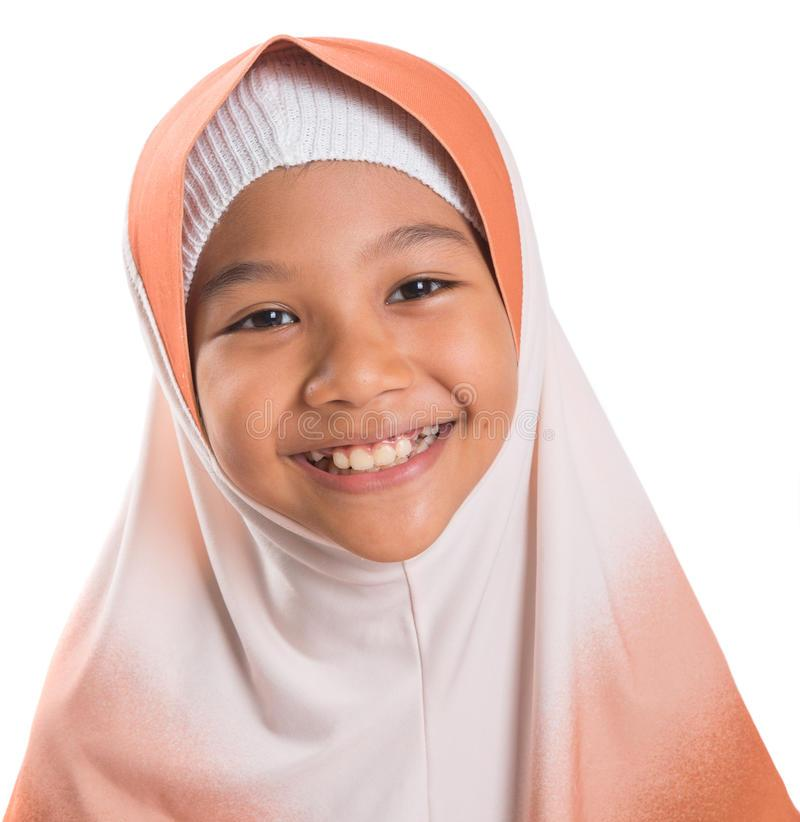No Mask: (182, 148, 555, 597)
